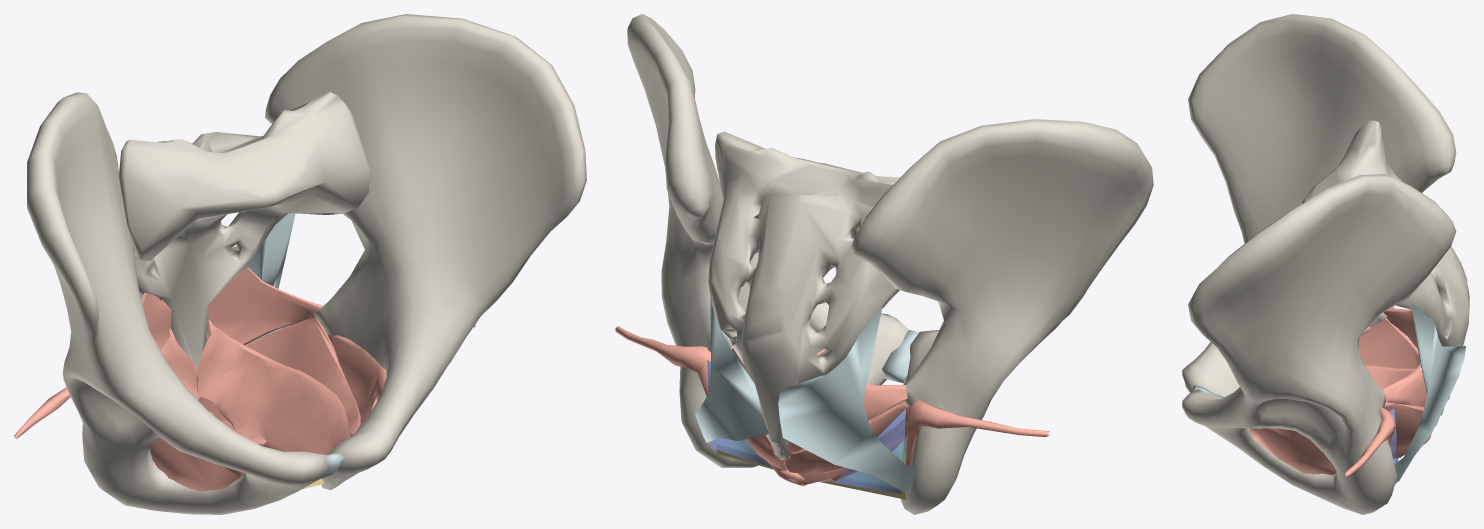
File: ischioanal-fossae.glb
3 renders of one model, left to right at view 1: azimuth 30°, elevation 25°; view 2: azimuth 150°, elevation 25°; view 3: azimuth 270°, elevation 25°, orthographic. The views are drawn at different scales.
Visible parts, largest first — view 1: Pubic Bones, Sacrum, Pubococcygeus, Coccygeus, Obturator Internus, Iliococcygeus, Sacrotuberous Ligament; view 2: Pubic Bones, Sacrum, Sacrotuberous Ligament, Obturator Internus, Iliococcygeus, Ischioanal Fossae, Coccygeus, Perineal Membrane, Pubic Symphysis, Puborectalis, Deep Perineal Pouch; view 3: Pubic Bones, Sacrum, Sacrotuberous Ligament, Iliococcygeus, Obturator Internus, Coccygeus, Pubococcygeus.
Boxes of the visible parts, box(x1,y1,x2,y2) form: Pubic Bones: box(27, 14, 586, 514); Sacrum: box(118, 91, 369, 370); Pubococcygeus: box(160, 320, 350, 455); Coccygeus: box(141, 267, 322, 349); Obturator Internus: box(14, 324, 476, 491); Iliococcygeus: box(198, 317, 360, 436); Sacrotuberous Ligament: box(139, 213, 295, 340); Pubic Bones: box(627, 14, 1153, 514); Sacrum: box(708, 131, 899, 459); Sacrotuberous Ligament: box(695, 297, 917, 493); Obturator Internus: box(615, 326, 1049, 465); Iliococcygeus: box(746, 401, 908, 473); Ischioanal Fossae: box(707, 360, 905, 494); Coccygeus: box(731, 348, 907, 454); Perineal Membrane: box(716, 445, 906, 499); Pubic Symphysis: box(882, 330, 918, 383); Puborectalis: box(768, 434, 906, 483); Deep Perineal Pouch: box(738, 441, 905, 488); Pubic Bones: box(1182, 14, 1456, 514); Sacrum: box(1302, 120, 1469, 415); Sacrotuberous Ligament: box(1394, 303, 1466, 483); Iliococcygeus: box(1359, 319, 1439, 447); Obturator Internus: box(1249, 307, 1395, 476); Coccygeus: box(1382, 308, 1426, 407); Pubococcygeus: box(1365, 365, 1416, 388).
Size of the model in its own units: 9.46 by 7.33 by 5.16.
